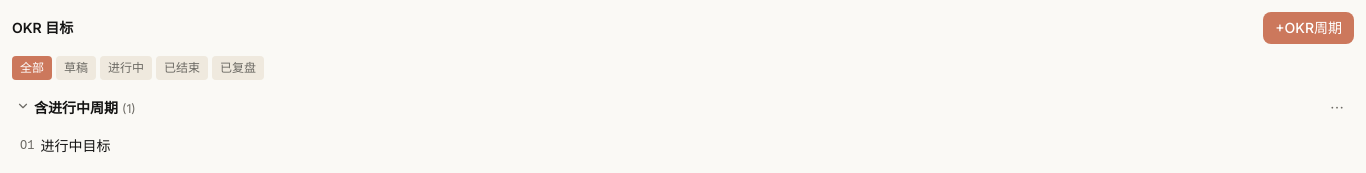
Test: [024.1] OKRDirectory 周期折叠 › 点击收起按钮可折叠 active 周期
The width and height of the screenshot is (1366, 173).
expect the text "进行中目标" is shown: met, box 40,136 -> 110,156
Click the button with aria-label "收起周期" at coordinates (76, 108), box 16,98 -> 136,118
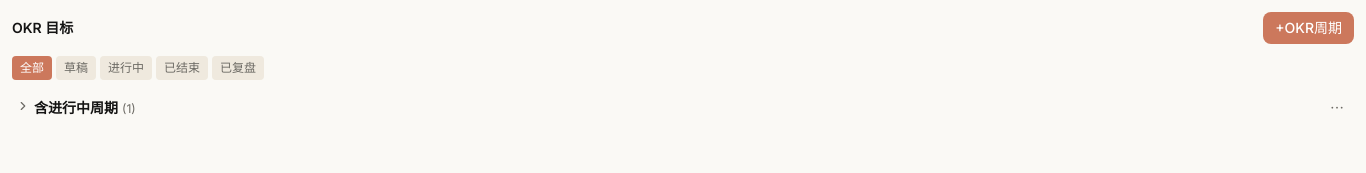
expect the button "进行中目标" is gone: met
expect the button with aria-label "展开周期" is shown: met, box 16,98 -> 136,118
